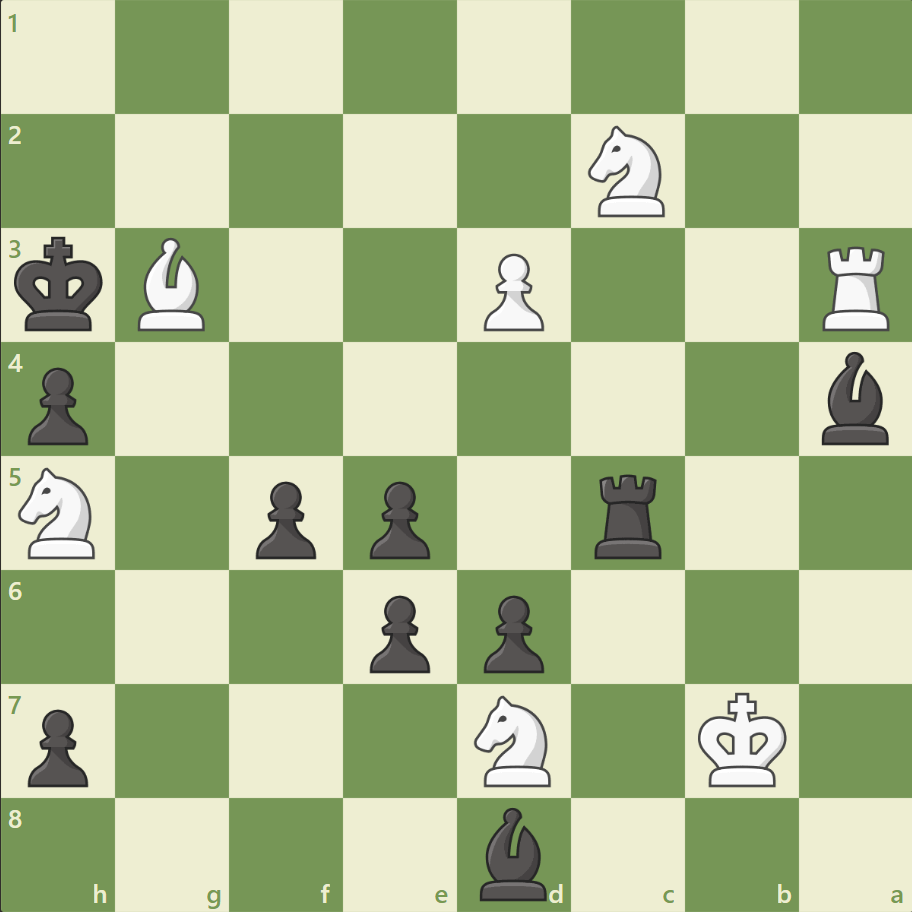B: (131, 233, 215, 336)
K: (692, 685, 792, 793)
N: (465, 688, 562, 791), (11, 461, 108, 564), (579, 121, 676, 223)
P: (474, 246, 549, 337)
R: (814, 239, 897, 336)
b: (471, 801, 555, 904), (812, 347, 896, 449)
k: (11, 231, 111, 339)
p: (20, 700, 95, 791), (474, 586, 549, 677), (247, 473, 322, 564), (20, 359, 95, 450), (361, 586, 435, 677), (361, 473, 435, 564)
r: (587, 466, 670, 563)
